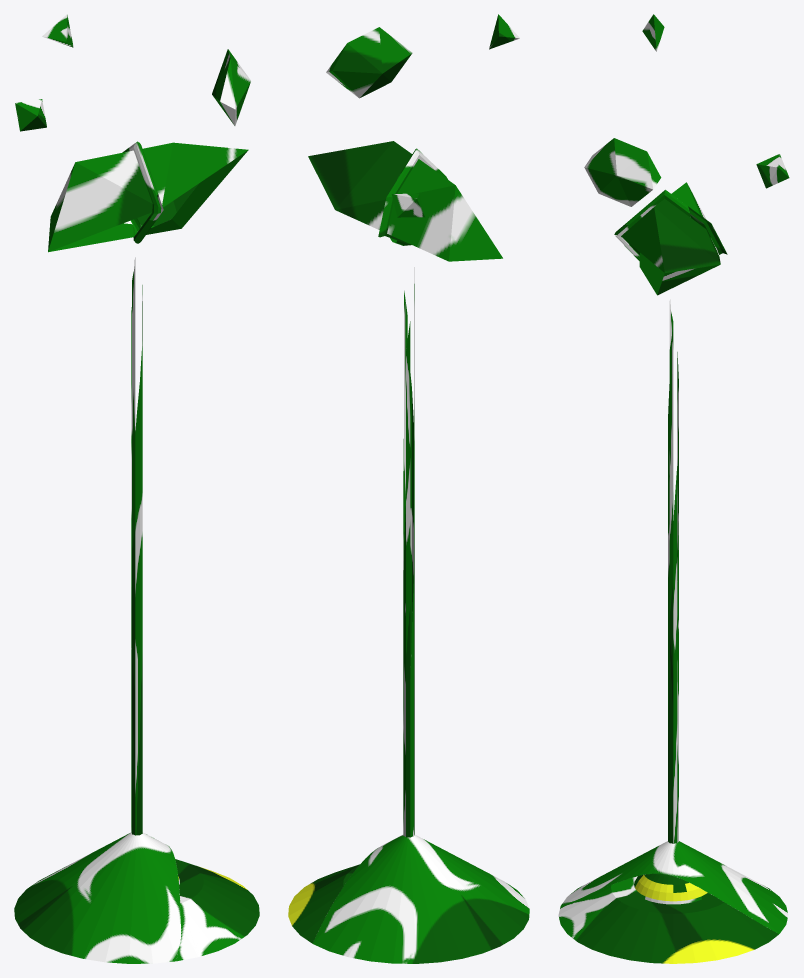
File: Lamp.obj
3 views of the same model, side by side, from view 1: azimuth 30°, elevation 25°; view 2: azimuth 150°, elevation 25°; view 3: azimuth 270°, elevation 25° (orthographic). The views are drawn at different scales.
Parts seen in each view (by area): view 1: Cube; view 2: Cube; view 3: Cube.
Boxes of the visible parts, box(x1,y1,x2,y2) form: Cube: box(14, 14, 259, 963); Cube: box(288, 14, 529, 963); Cube: box(558, 14, 789, 963).
Bounding box in the file's own units: 4.84 × 20.56 × 4.85.
